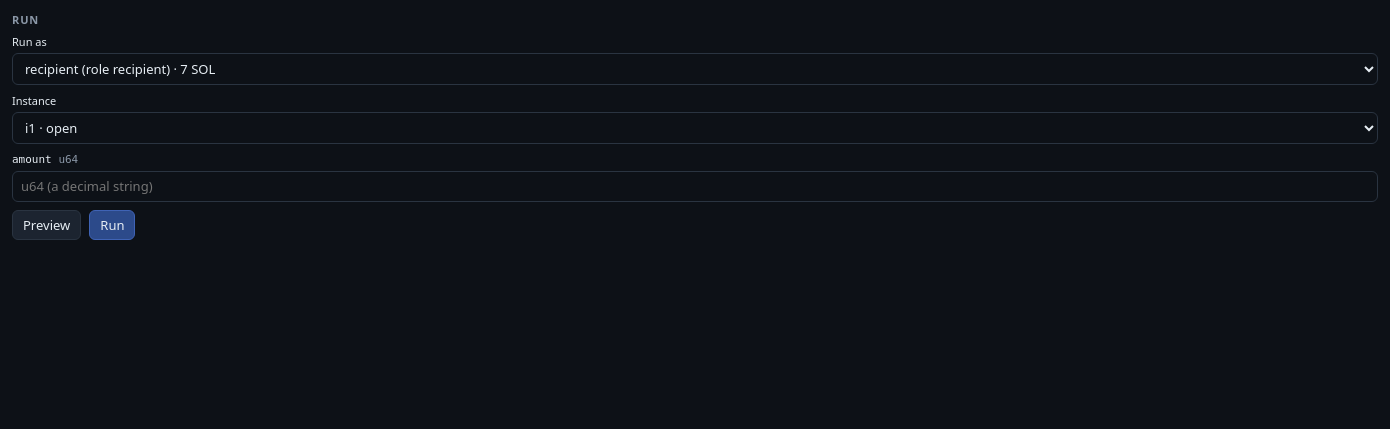
Scenario: RunStepForm › prepares with the role holder's dev wallet, previews, then submits
expect the dropdown with test id "run-as" shows "recipient (role recipient) · 7 SOL": met, box x1=12 y1=53 x2=1378 y2=85
Note: The recipient role suggests the recipient's dev wallet.
Click the button with test id "preview-button": coordinates (47, 225) x1=12 y1=210 x2=81 y2=240
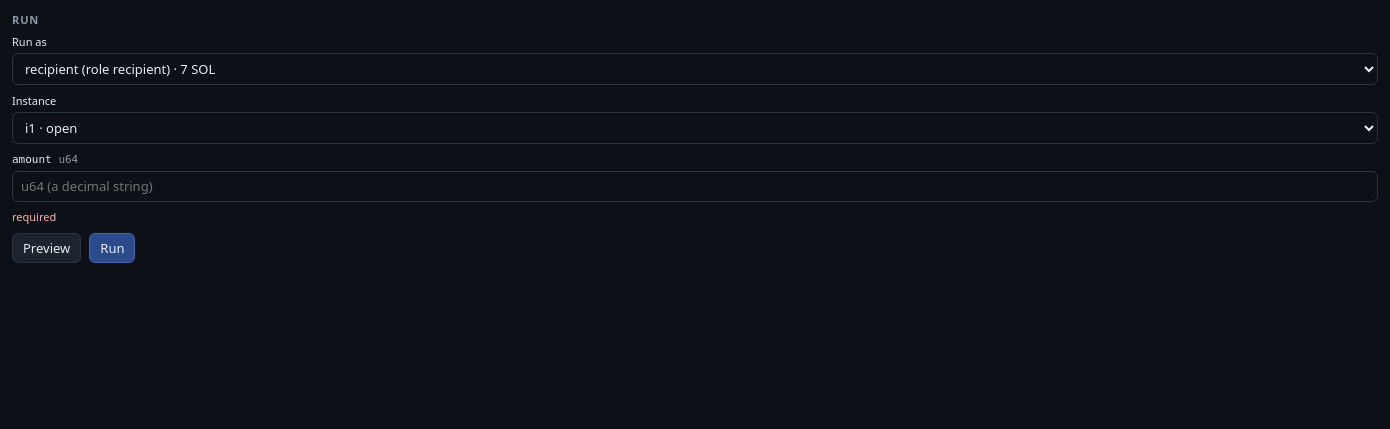
expect the text "required" is shown: met, box x1=12 y1=209 x2=56 y2=224
In the field with placeholder "u64 (a decimal string)": coordinates (695, 186) x1=12 y1=171 x2=1378 y2=202, type "1000"
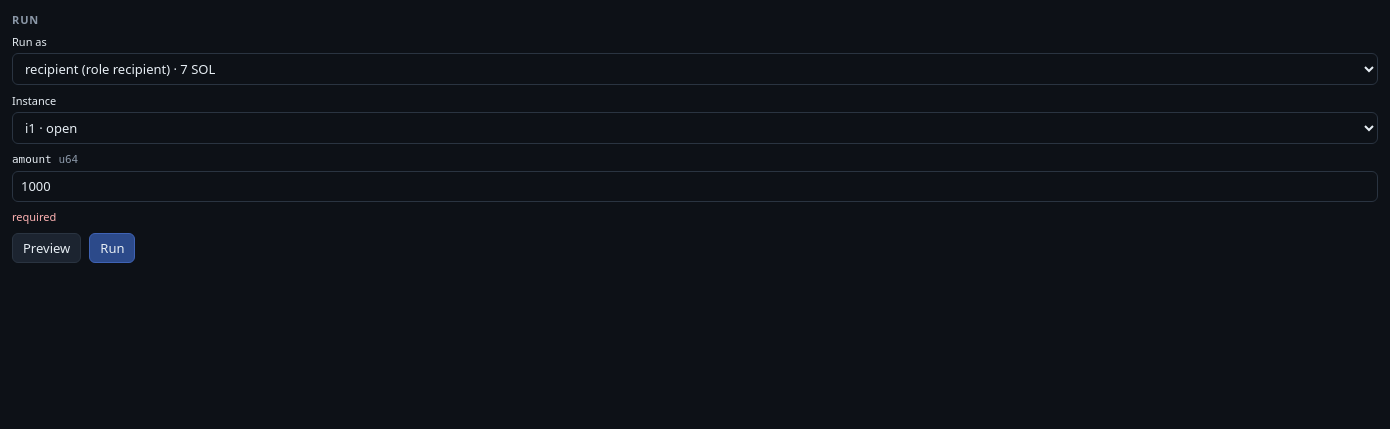
Click the button with test id "preview-button": coordinates (47, 248) x1=12 y1=232 x2=81 y2=263
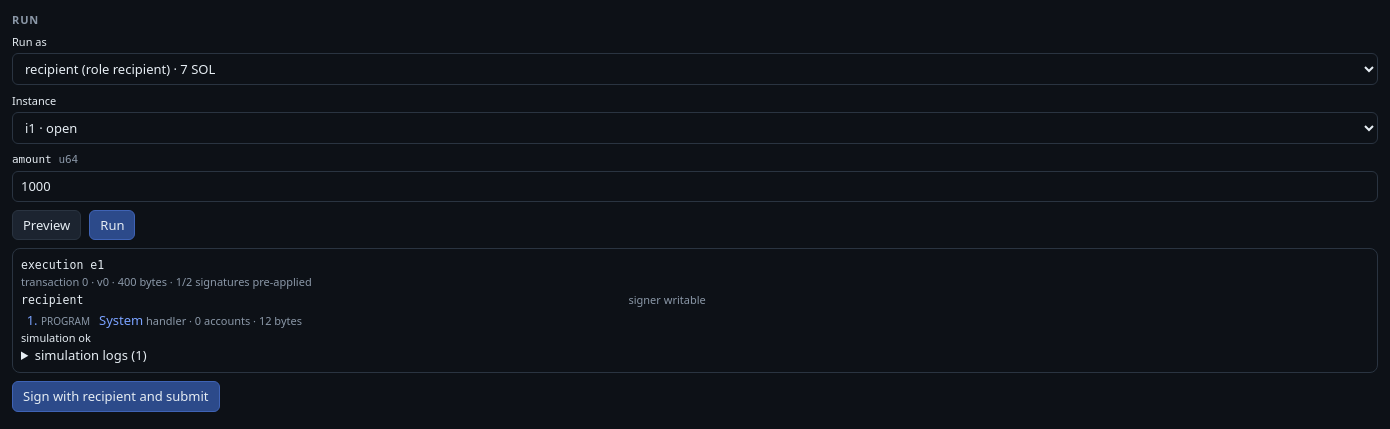
expect the element with test id "preview" is shown: met, box x1=12 y1=248 x2=1378 y2=373
expect the list item "System" is shown: met, box x1=99 y1=311 x2=143 y2=329
expect the text with test id "simulation" reads "simulation ok": met, box x1=21 y1=330 x2=91 y2=345
Click the button with test id "submit-button": coordinates (116, 397) x1=12 y1=381 x2=220 y2=412
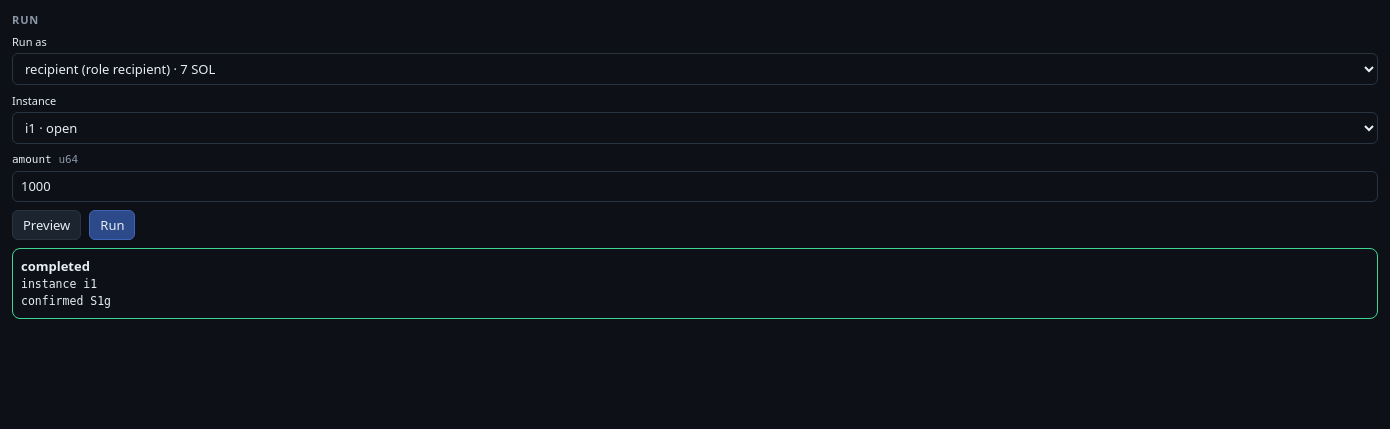
expect the element with test id "run-result" shows "completed": met, box x1=21 y1=257 x2=90 y2=275
